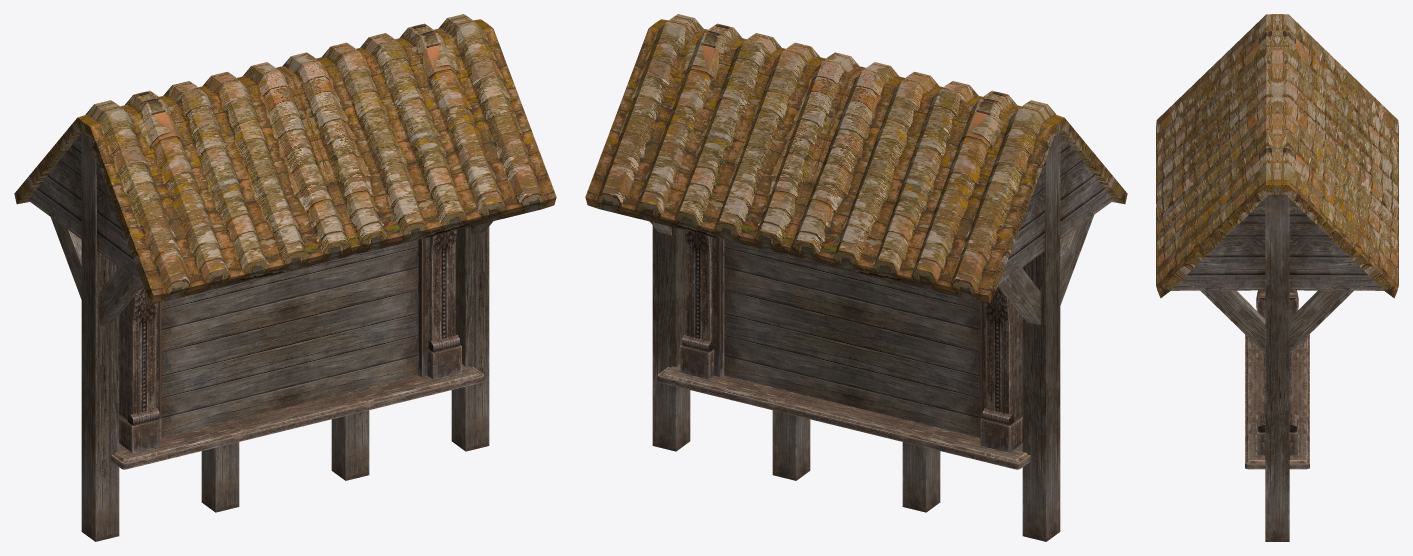
The model's file is Board.fbx.
3 renders of one model, left to right at view 1: azimuth 30°, elevation 25°; view 2: azimuth 150°, elevation 25°; view 3: azimuth 270°, elevation 25°, orthographic. The views are drawn at different scales.
Visible parts, largest first — view 1: LV_Compagna_Object_Blackboard01_SM_HSH; view 2: LV_Compagna_Object_Blackboard01_SM_HSH; view 3: LV_Compagna_Object_Blackboard01_SM_HSH.
Part boxes in pixels (left/top/right/bottom): LV_Compagna_Object_Blackboard01_SM_HSH: left=14, top=14, right=556, bottom=541; LV_Compagna_Object_Blackboard01_SM_HSH: left=585, top=14, right=1127, bottom=541; LV_Compagna_Object_Blackboard01_SM_HSH: left=1156, top=14, right=1398, bottom=541.
Size of the model in its own units: 0.8265 by 0.8287 by 0.4967.
